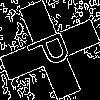P: (25, 25, 80, 74)
